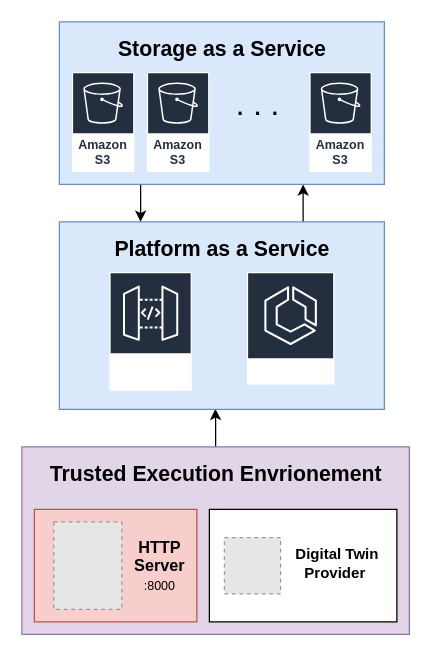
This 431x656 diagram has some shape labels left out. Grey dashed boxes stand in for pictures. The centre of each missing label's shape, as x and y in pixels:
Amazon API Gateway: pixel 150 331
Amazon ECS: pixel 290 327
